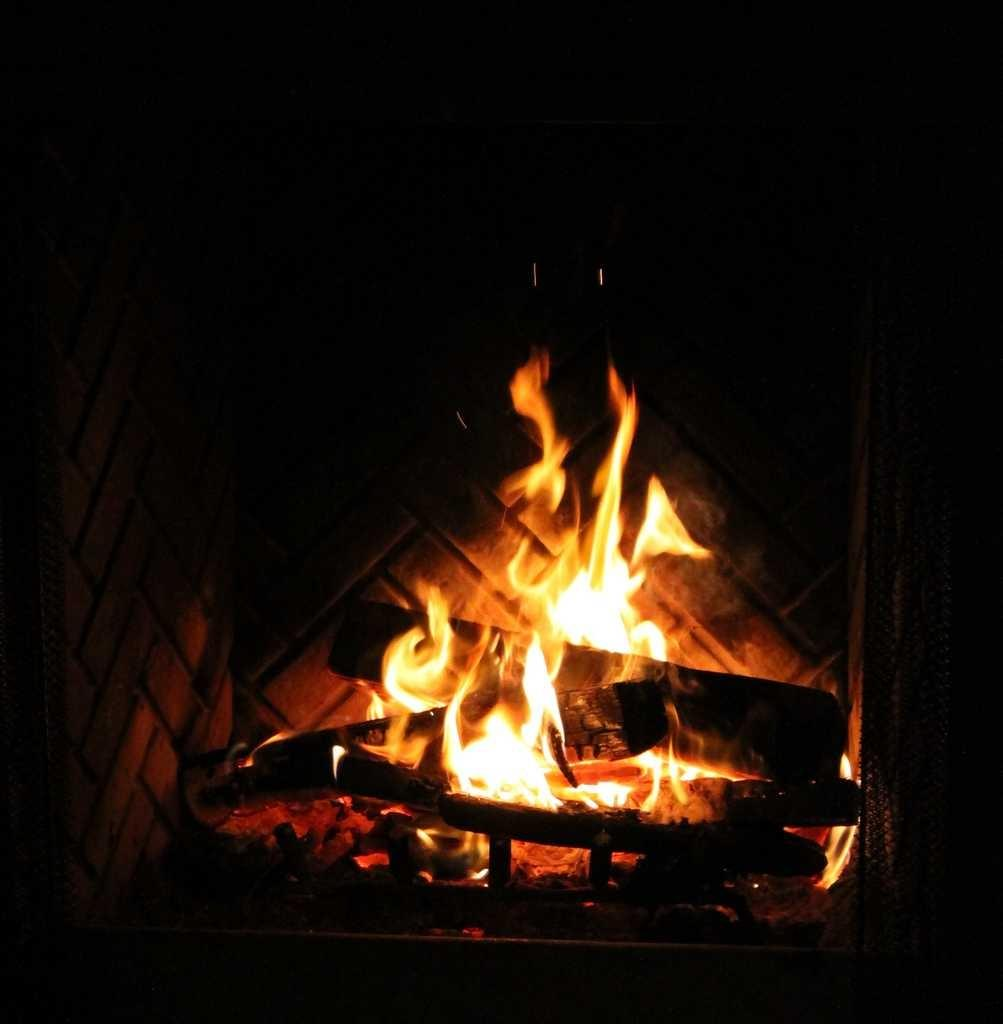fire: (449, 649, 559, 801), (558, 577, 633, 652), (387, 640, 443, 705)
